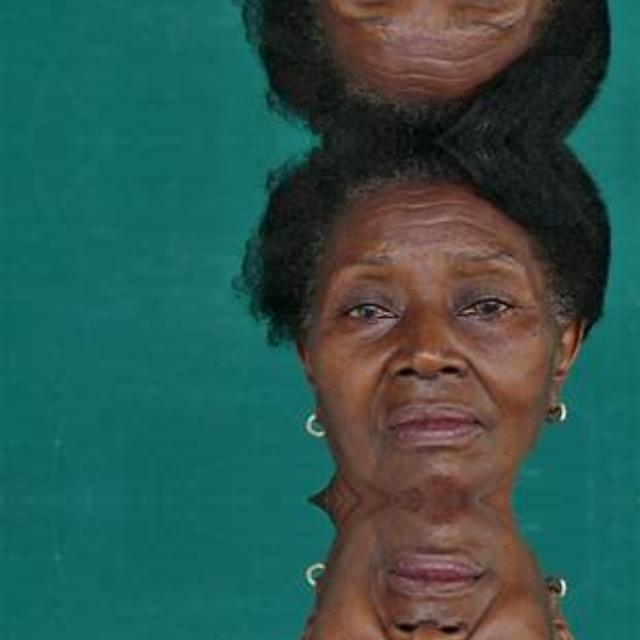person: (230, 140, 612, 500), (230, 499, 611, 640), (230, 0, 611, 139)
